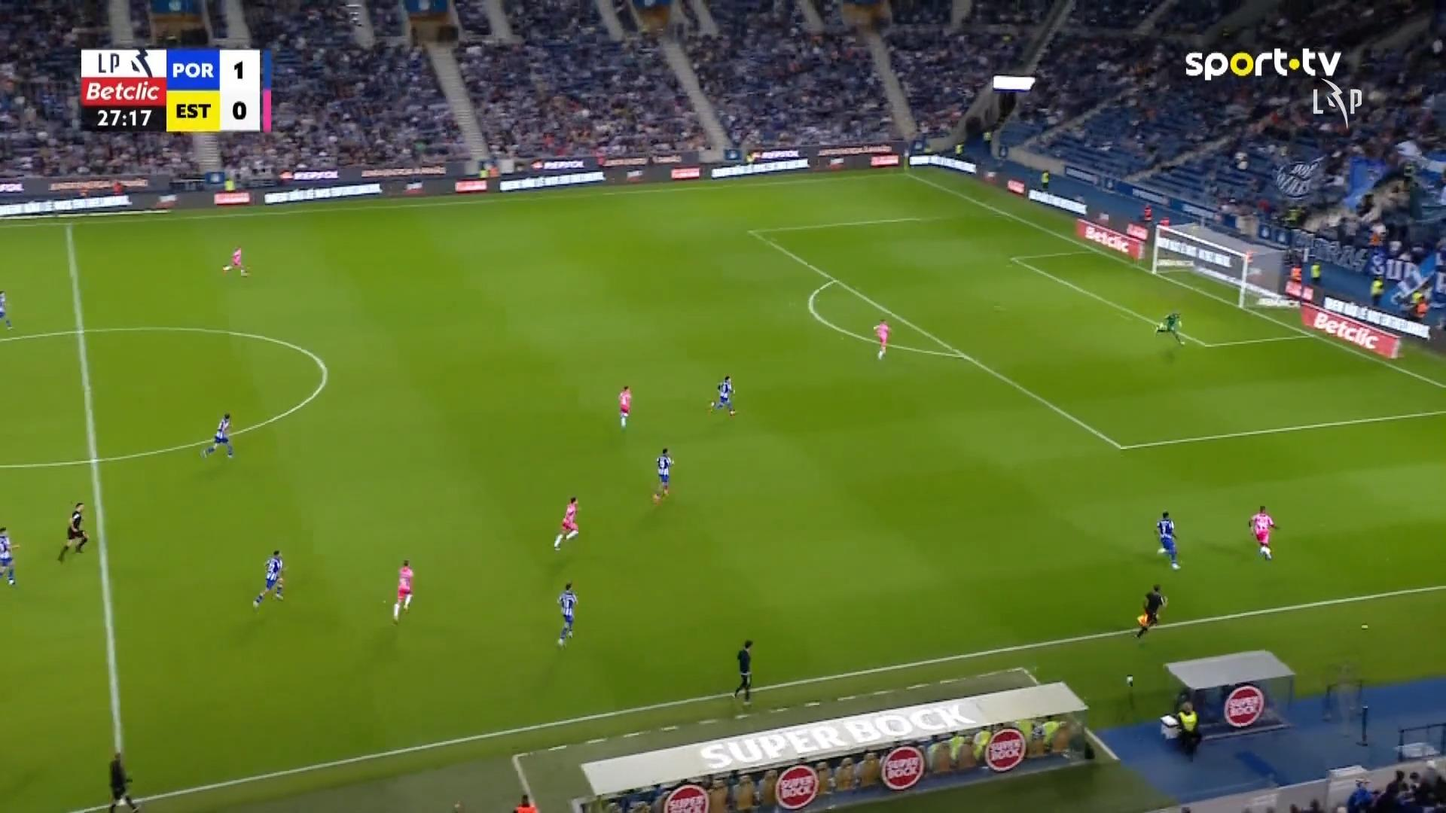ball: (1157, 547, 1166, 553)
goalkeeper: (1155, 311, 1184, 346)
player: (252, 550, 285, 608), (1248, 504, 1278, 560), (1176, 699, 1201, 761), (1155, 510, 1181, 569), (201, 413, 234, 459), (391, 559, 414, 624), (556, 582, 578, 647), (553, 496, 579, 550), (0, 525, 20, 586), (707, 374, 736, 415), (652, 447, 673, 502), (221, 245, 249, 276), (872, 318, 889, 359), (618, 385, 632, 428), (0, 289, 13, 329)
referee: (56, 501, 89, 562), (108, 751, 140, 811), (1134, 583, 1167, 639), (732, 639, 753, 705)
